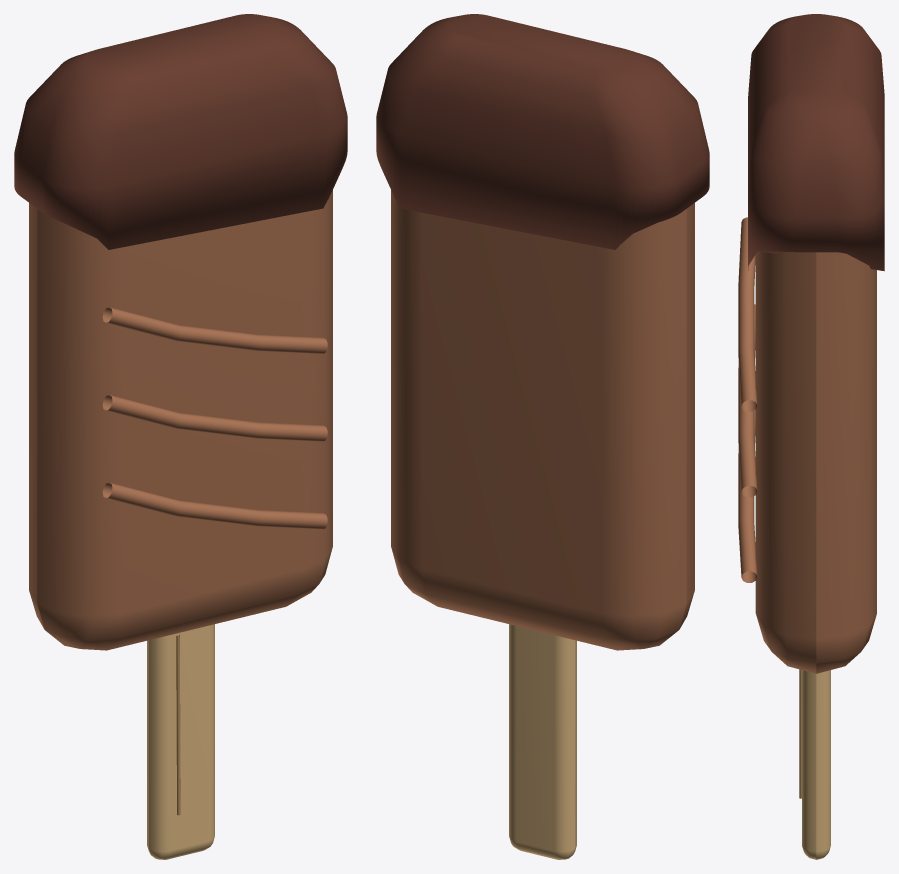
File: icecream_chocolate.glb
The picture shows the model from 3 angles, left to right: view 1: azimuth 30°, elevation 25°; view 2: azimuth 150°, elevation 25°; view 3: azimuth 270°, elevation 25°; orthographic projection. The views are drawn at different scales.
Visible parts, largest first — view 1: Frozen cream body.001, Continuous dipped chocolate.001, Thin wooden stick.001, Milk chocolate drizzle, Milk chocolate drizzle.002, Milk chocolate drizzle.001, Wood grain.001; view 2: Frozen cream body.001, Continuous dipped chocolate.001, Thin wooden stick.001; view 3: Frozen cream body.001, Continuous dipped chocolate.001, Thin wooden stick.001, Milk chocolate drizzle.002, Milk chocolate drizzle.001, Milk chocolate drizzle, Wood grain.001.
Boxes of the visible parts, x1,y1,x2,y2 form: Frozen cream body.001: (29, 190, 332, 650); Continuous dipped chocolate.001: (14, 14, 347, 249); Thin wooden stick.001: (147, 624, 214, 859); Milk chocolate drizzle: (102, 482, 327, 529); Milk chocolate drizzle.002: (102, 307, 327, 354); Milk chocolate drizzle.001: (102, 394, 327, 441); Wood grain.001: (176, 635, 180, 815); Frozen cream body.001: (391, 190, 694, 650); Continuous dipped chocolate.001: (376, 14, 709, 249); Thin wooden stick.001: (509, 624, 576, 859); Frozen cream body.001: (755, 251, 876, 673); Continuous dipped chocolate.001: (748, 14, 884, 271); Thin wooden stick.001: (802, 670, 830, 859); Milk chocolate drizzle.002: (738, 217, 757, 411); Milk chocolate drizzle.001: (738, 304, 757, 497); Milk chocolate drizzle: (738, 410, 757, 582); Wood grain.001: (799, 669, 801, 798).
Size of the model in its own units: 0.748 by 1.95 by 0.326.
